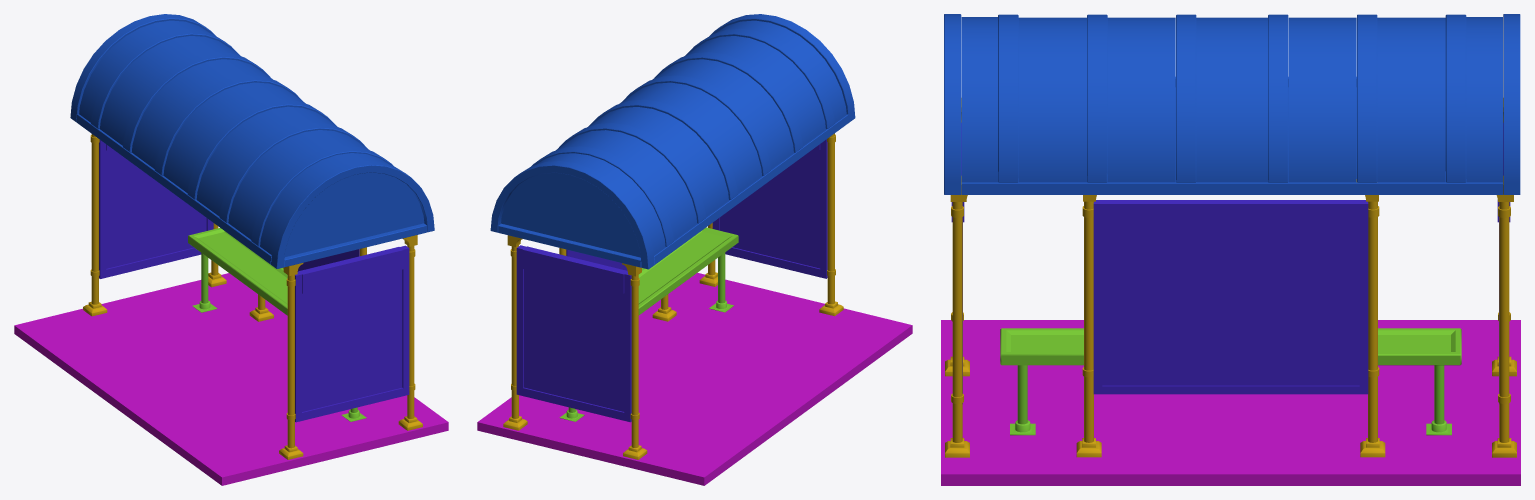
File: BUS STOP.fbx
The picture shows the model from 3 angles, left to right: view 1: azimuth 30°, elevation 25°; view 2: azimuth 150°, elevation 25°; view 3: azimuth 270°, elevation 25°; orthographic projection. The views are drawn at different scales.
Visible parts, largest first — view 1: Floor, Roof, Board_sides, Roof.001, Roof.003, Side_Poles, bench, Roof.002, Cube.002, Board_center; view 2: Floor, Roof, Board_sides, Roof.001, Roof.003, Side_Poles, bench, Roof.002, Cube.002; view 3: Roof, Floor, Board_center, Roof.003, Roof.001, bench, Side_Poles, Center_Poles, Cube.002, Cylinder.002, Cube.003, Plane.
Part boxes in pixels (x1,y1,x2,y2): Floor: [14, 273, 448, 485]; Roof: [76, 20, 389, 264]; Board_sides: [99, 140, 409, 422]; Roof.001: [70, 14, 434, 268]; Roof.003: [91, 28, 393, 246]; Side_Poles: [90, 134, 415, 448]; bench: [188, 228, 287, 315]; Roof.002: [284, 223, 426, 267]; Cube.002: [83, 272, 422, 459]; Board_center: [297, 249, 359, 271]; Floor: [477, 272, 912, 485]; Roof: [536, 20, 849, 264]; Board_sides: [516, 139, 827, 422]; Roof.001: [490, 14, 855, 269]; Roof.003: [531, 28, 834, 246]; Side_Poles: [510, 133, 835, 447]; bench: [638, 227, 738, 315]; Roof.002: [498, 223, 641, 267]; Cube.002: [503, 272, 843, 459]; Roof: [961, 17, 1502, 194]; Floor: [941, 320, 1520, 485]; Board_center: [1093, 200, 1368, 394]; Roof.003: [998, 14, 1466, 182]; Roof.001: [944, 14, 1520, 194]; bench: [1000, 328, 1461, 365]; Side_Poles: [951, 100, 1510, 442]; Center_Poles: [1082, 201, 1379, 442]; Cube.002: [945, 356, 1516, 457]; Cylinder.002: [1017, 365, 1444, 424]; Cube.003: [1076, 438, 1385, 457]; Plane: [1010, 420, 1451, 435].
Size of the model in its own units: 252 by 303 by 400.
